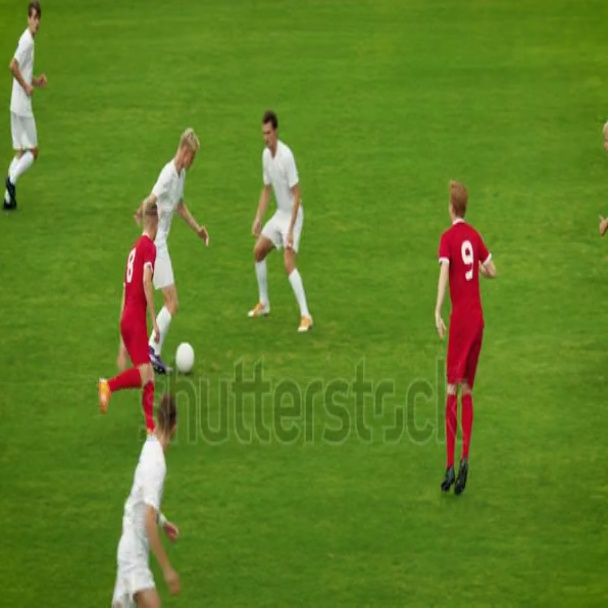ball: (170, 337, 200, 383)
